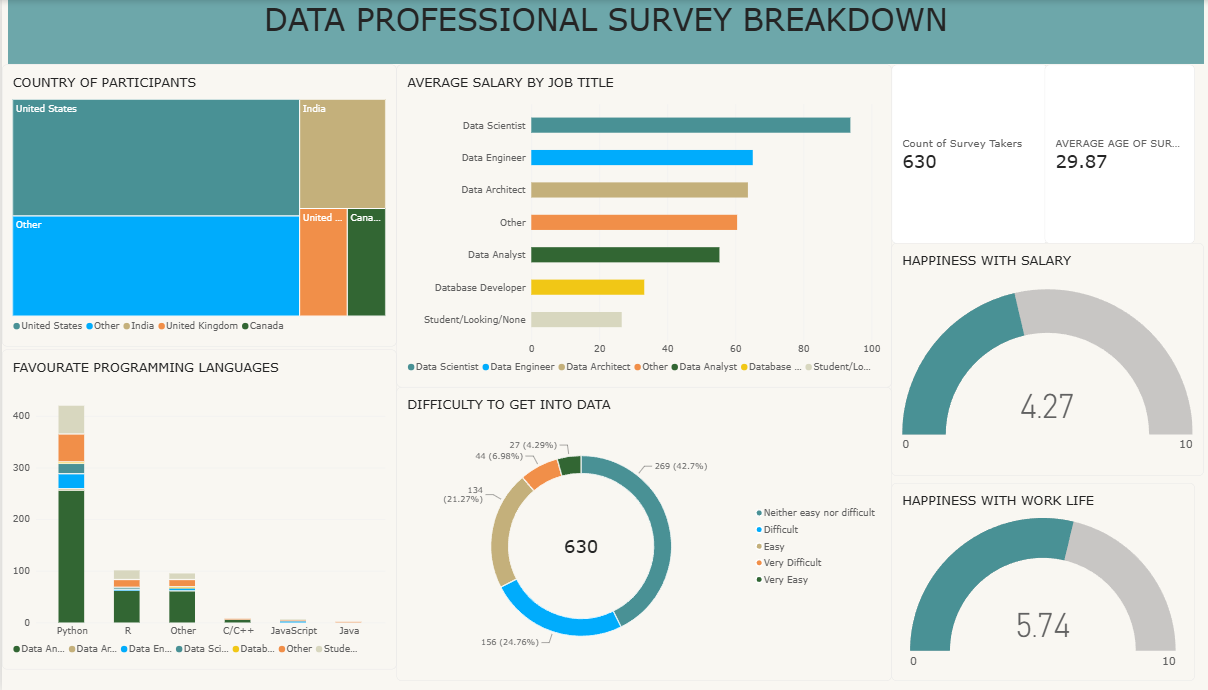

This screenshot's page, from the dashboard's own definition file:
{"tool":"powerbi","page":{"name":"Page 1","canvas":[1920,1080],"ordinal":0},"visuals":[{"type":"textbox","box":[10,0,280,280],"z":0},{"type":"textbox","box":[9.5,0,1869,100],"z":1000},{"type":"cardVisual","fields":{"Data":["CountNonNull(Data Professional Survey.Unique ID)"]},"box":[1390.5,100,245.2,281],"z":2000},{"type":"cardVisual","fields":{"Data":["Avg(Data Professional Survey.Q10 - Current Age)"]},"box":[1628.6,100,235.7,281],"z":3000},{"type":"barChart","title":"AVERAGE SALARY BY JOB TITLE ","fields":{"Category":["Data Professional Survey.Q1 - Which Title Best Fits your Current Role?.1"],"Series":["Data Professional Survey.Q1 - Which Title Best Fits your Current Role?.1"],"Y":["Avg(Data Professional Survey.AVERAGE SALARY.1)"]},"box":[616.7,100,773.8,504.8],"z":4000},{"type":"columnChart","title":"FAVOURATE PROGRAMMING LANGUAGES","fields":{"Category":["Data Professional Survey.Q5 - Favorite Programming Language.1"],"Series":["Data Professional Survey.Q1 - Which Title Best Fits your Current Role?.1"],"Y":["CountNonNull(Data Professional Survey.Unique ID)"]},"box":[0,545.2,616.7,500],"z":5000},{"type":"treemap","title":"COUNTRY OF PARTICIPANTS","fields":{"Group":["Data Professional Survey.Q11 - Which Country do you live in?.1"],"Values":["CountNonNull(Data Professional Survey.Q11 - Which Country do you live in?.1)"]},"box":[0,100,616.7,440.5],"z":5001},{"type":"gauge","title":"HAPPINESS WITH SALARY","fields":{"MaxValue":["Max(Data Professional Survey.Q6 - How Happy are you in your Current Position with the following? (Salary))"],"MinValue":["Min(Data Professional Survey.Q6 - How Happy are you in your Current Position with the following? (Salary))"],"Y":["Avg(Data Professional Survey.Q6 - How Happy are you in your Current Position with the following? (Salary))"]},"box":[1390.5,381,488.1,364.3],"z":5002},{"type":"gauge","title":"HAPPINESS WITH WORK LIFE","fields":{"MaxValue":["Max(Data Professional Survey.Q6 - How Happy are you in your Current Position with the following? (Work/Life Balance))"],"MinValue":["Min(Data Professional Survey.Q6 - How Happy are you in your Current Position with the following? (Work/Life Balance))"],"Y":["Avg(Data Professional Survey.Q6 - How Happy are you in your Current Position with the following? (Work/Life Balance))"]},"box":[1390.5,754.8,473.8,309.5],"z":5003},{"type":"donutChart","title":"DIFFICULTY TO  GET INTO DATA","fields":{"Category":["Data Professional Survey.Q7 - How difficult was it for you to break into Data?"],"Y":["CountNonNull(Data Professional Survey.Q7 - How difficult was it for you to break into Data?)"]},"box":[616.7,604.8,773.8,459.5],"z":5004}]}

Visuals, with their boxes in screenshot pixels (x1, y1, x2, y2), scaled from the page's 1920x1080 canvas onto the 1208x690 screenshot:
textbox: <box>6,0,182,179</box>
textbox: <box>6,0,1182,64</box>
cardVisual - CountNonNull(Data Professional Survey.Unique ID): <box>875,64,1029,243</box>
cardVisual - Avg(Data Professional Survey.Q10 - Current Age): <box>1025,64,1173,243</box>
"AVERAGE SALARY BY JOB TITLE " barChart: <box>388,64,875,386</box>
"FAVOURATE PROGRAMMING LANGUAGES" columnChart: <box>0,348,388,668</box>
"COUNTRY OF PARTICIPANTS" treemap: <box>0,64,388,345</box>
"HAPPINESS WITH SALARY" gauge: <box>875,243,1182,476</box>
"HAPPINESS WITH WORK LIFE" gauge: <box>875,482,1173,680</box>
"DIFFICULTY TO  GET INTO DATA" donutChart: <box>388,386,875,680</box>
